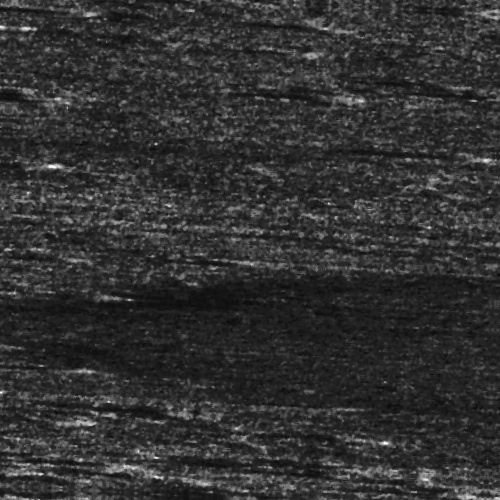object: (42, 451, 219, 486), (263, 88, 388, 97), (0, 170, 102, 179), (441, 137, 500, 146), (12, 483, 43, 500), (40, 426, 113, 433), (40, 18, 103, 23), (343, 397, 384, 404), (50, 374, 103, 379), (1, 296, 54, 301), (295, 20, 336, 25), (467, 79, 500, 84), (0, 357, 27, 360), (0, 38, 11, 41)
shadow: (0, 451, 130, 486), (340, 137, 477, 146), (228, 88, 325, 97), (0, 426, 76, 433), (217, 20, 315, 25), (401, 79, 494, 84), (0, 170, 45, 179), (0, 374, 76, 379), (312, 397, 364, 404), (0, 18, 71, 23), (0, 296, 27, 301)
